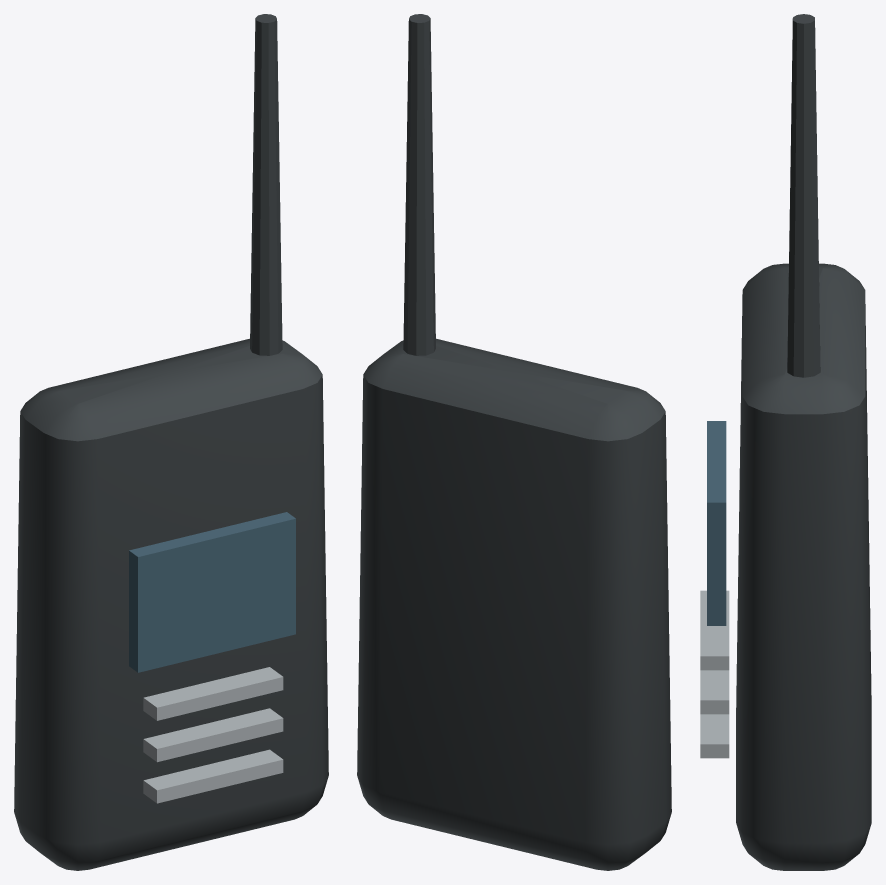
File: endurance-and-gt-paddock-radio-pod-8a18dcd9__14870.glb
The picture shows the model from 3 angles, left to right: view 1: azimuth 30°, elevation 25°; view 2: azimuth 150°, elevation 25°; view 3: azimuth 270°, elevation 25°; orthographic projection. The views are drawn at different scales.
Parts seen in each view (by area): view 1: radio-pod; view 2: radio-pod; view 3: radio-pod.
Part boxes in pixels (x1,y1,x2,y2): radio-pod: [14, 14, 328, 870]; radio-pod: [357, 14, 671, 870]; radio-pod: [700, 14, 871, 870].
Bounding box in the file's own units: 0.18 × 0.48 × 0.0885.
